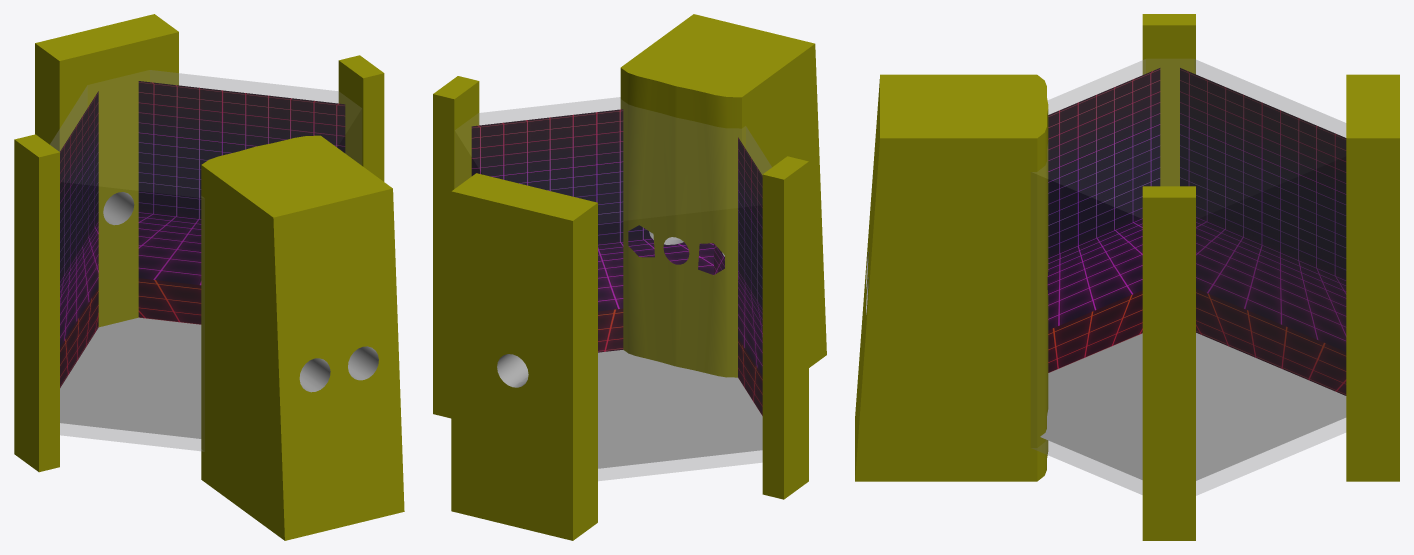
Rendered from PianoRoomWalls3Gateways.fbx.
3 renders of one model, left to right at view 1: azimuth 30°, elevation 25°; view 2: azimuth 150°, elevation 25°; view 3: azimuth 270°, elevation 25°, orthographic. The views are drawn at different scales.
Parts seen in each view (by area): view 1: PianoRoomWalls; view 2: PianoRoomWalls; view 3: PianoRoomWalls.
Part boxes in pixels (x1,y1,x2,y2): PianoRoomWalls: (14, 14, 404, 540); PianoRoomWalls: (433, 14, 826, 540); PianoRoomWalls: (855, 14, 1399, 540).
Bounding box in the file's own units: 4795 × 4178 × 6011.
Materials: 4 (1 with a texture image).
